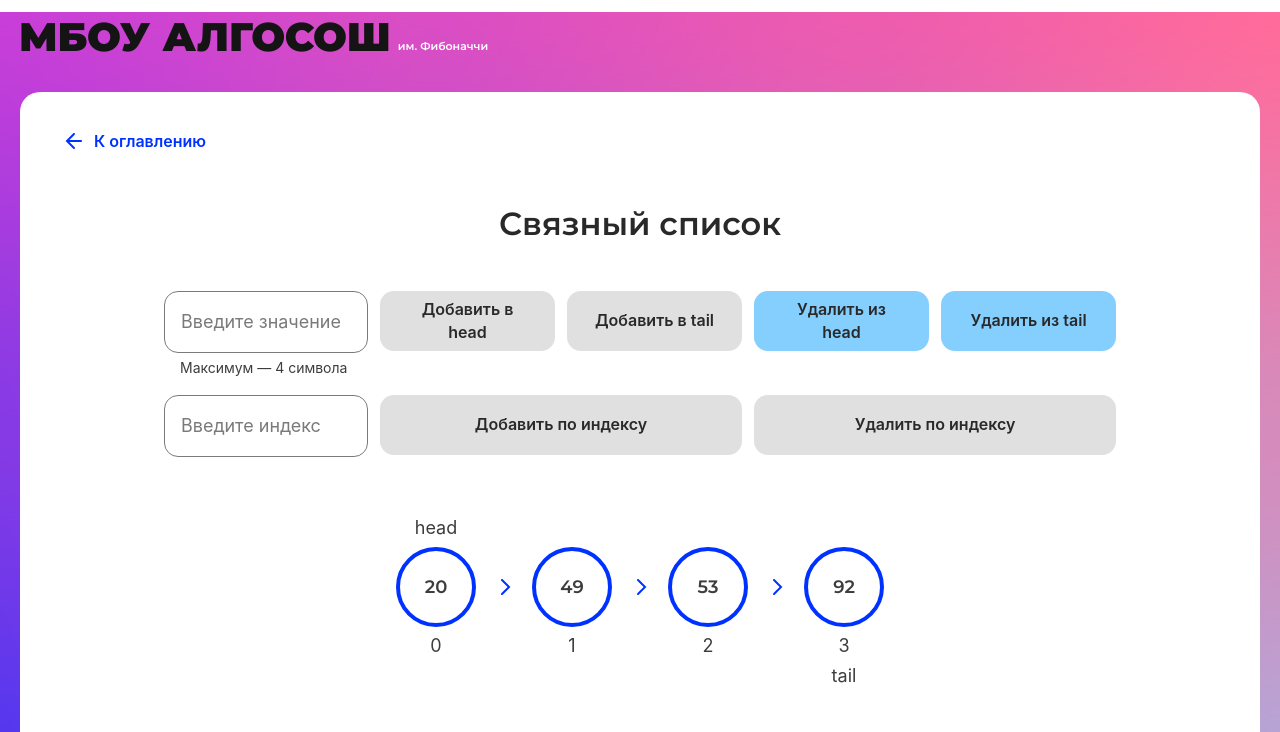
Тестирование страницы 'Стек' › Проверка условия - при пустом поле ввода значения кнопки добавления в список неактивна
Expected: the button with test id "prepend" is disabled, [380,291,555,351]
Expected: the button with test id "append" is disabled, [567,291,742,351]
Type "1" into the field with test id "valueInput" at (266, 322), box [164,291,368,353]
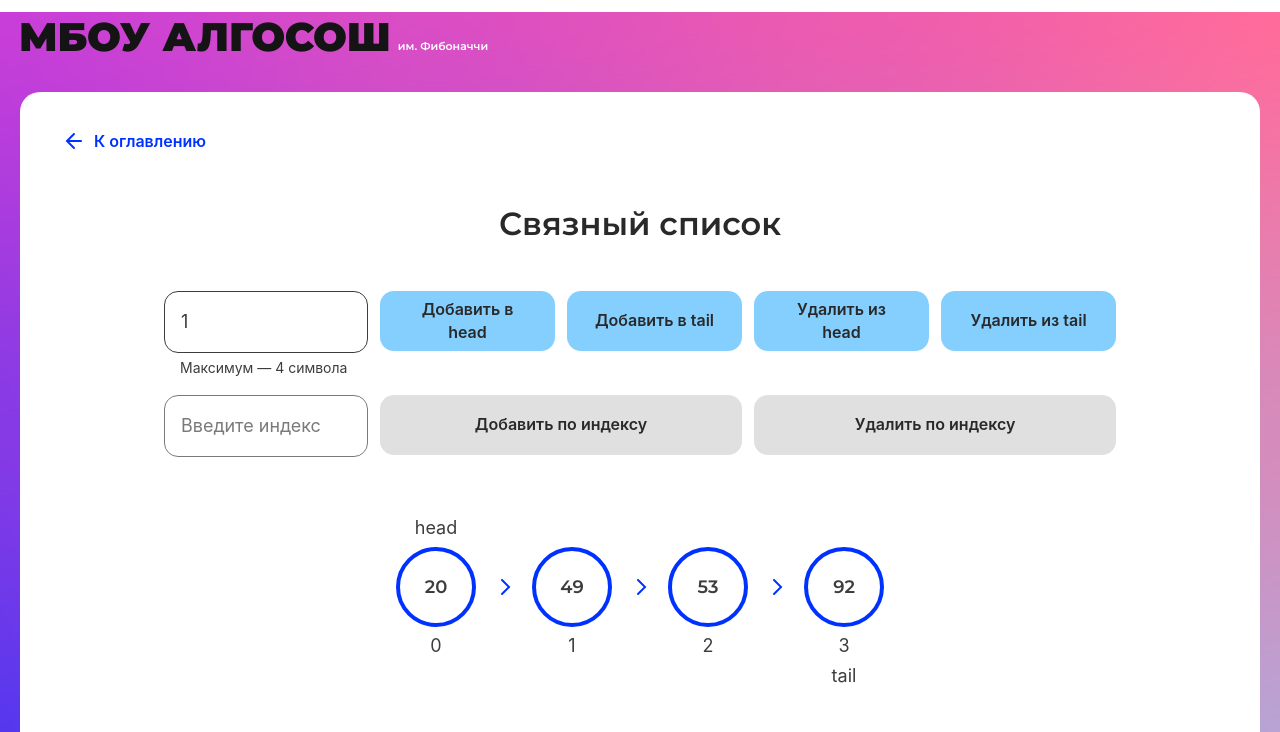
Expected: the element with test id "prepend" is enabled
Expected: the element with test id "append" is enabled
Clear the field with test id "valueInput" at (266, 322), box [164,291,368,353]
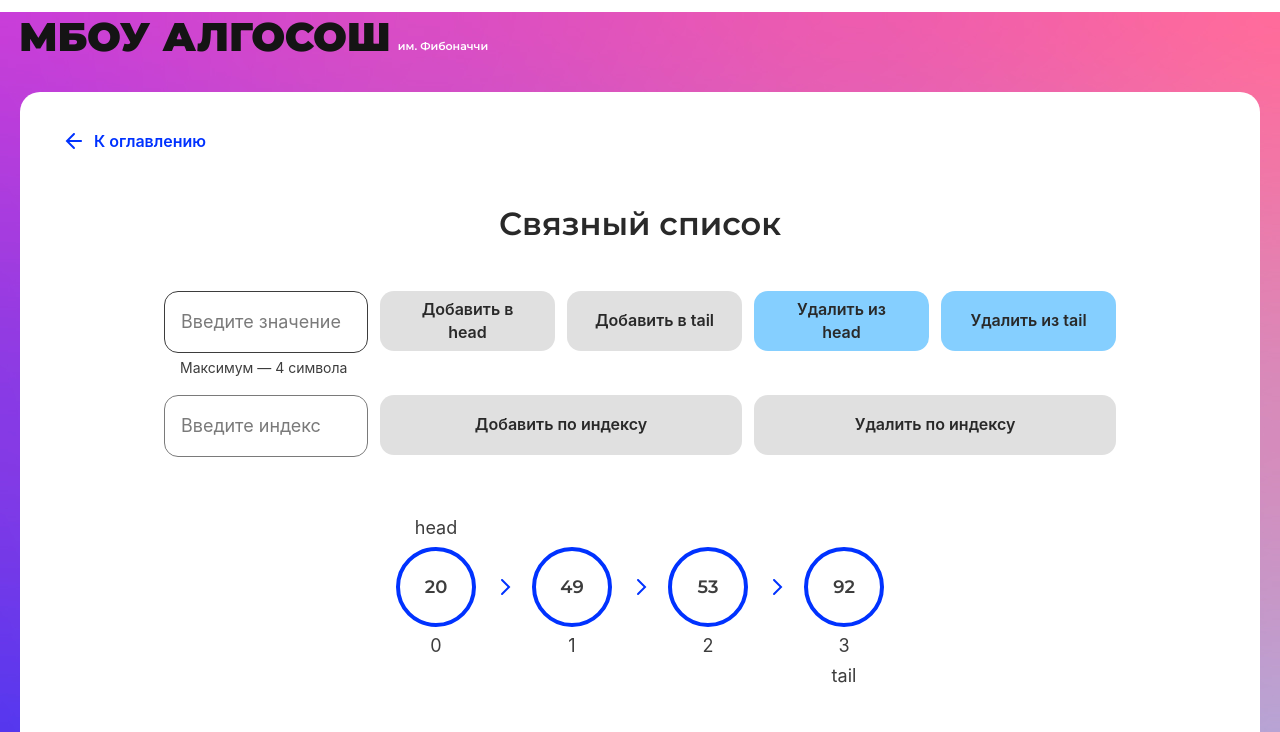
Expected: the button with test id "prepend" is disabled, [380,291,555,351]
Expected: the button with test id "append" is disabled, [567,291,742,351]
